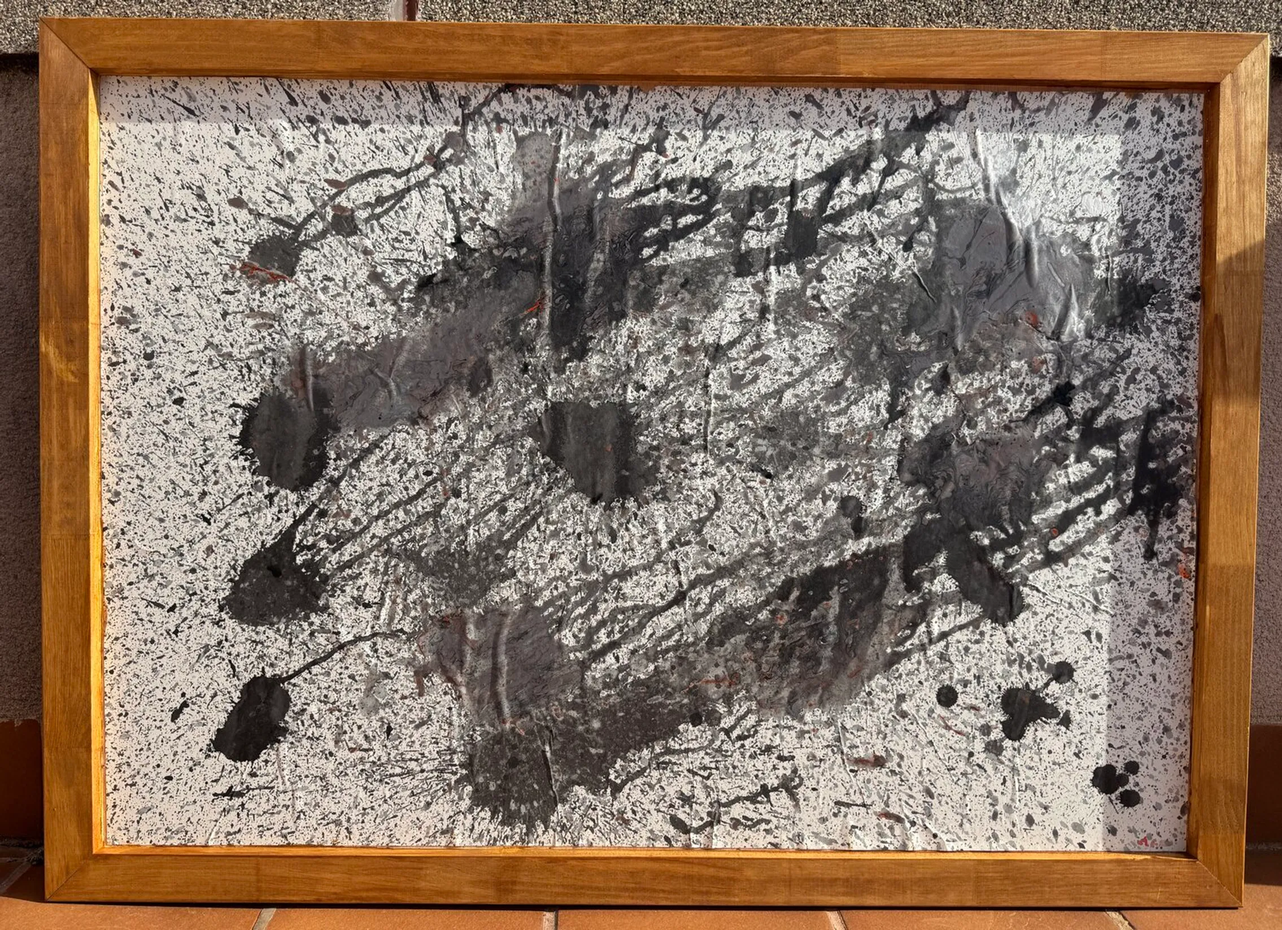painting: (35, 18, 1266, 909)
